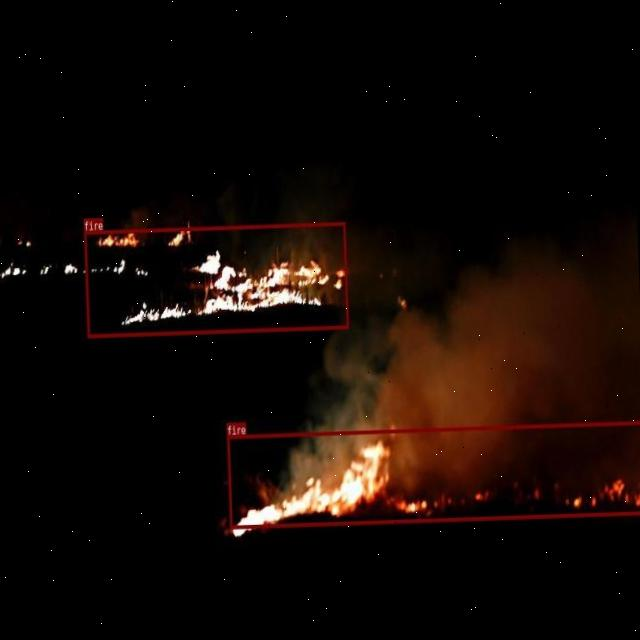fire: (226, 420, 640, 527), (84, 221, 348, 336)
